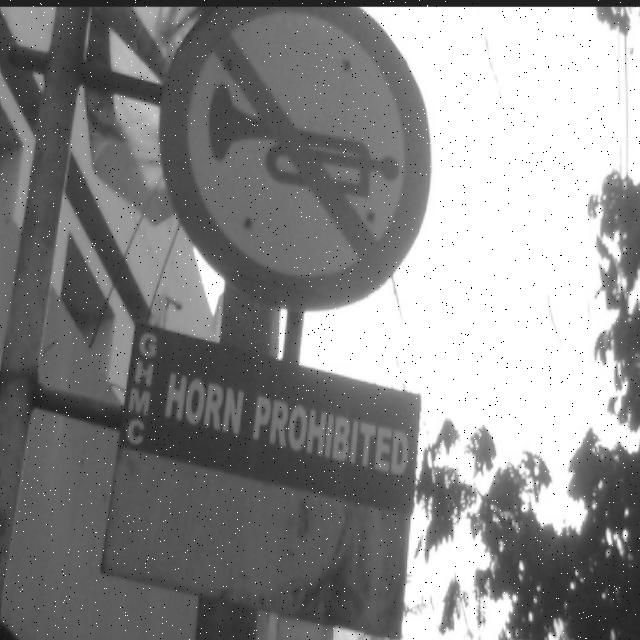No_Horn: (162, 0, 432, 313)
